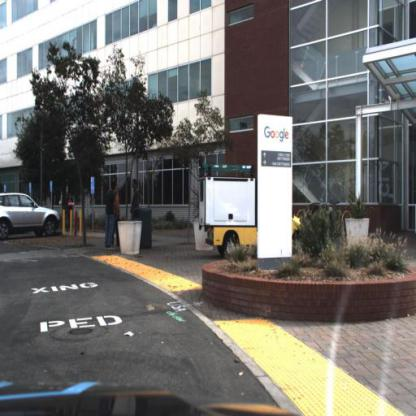car: (198, 155, 314, 262), (1, 189, 63, 240)
pedestrian: (103, 181, 117, 251), (104, 181, 116, 254), (112, 185, 123, 245), (129, 178, 142, 222), (65, 193, 78, 236), (114, 184, 121, 249), (130, 178, 140, 217)
truck: (194, 157, 311, 260)
